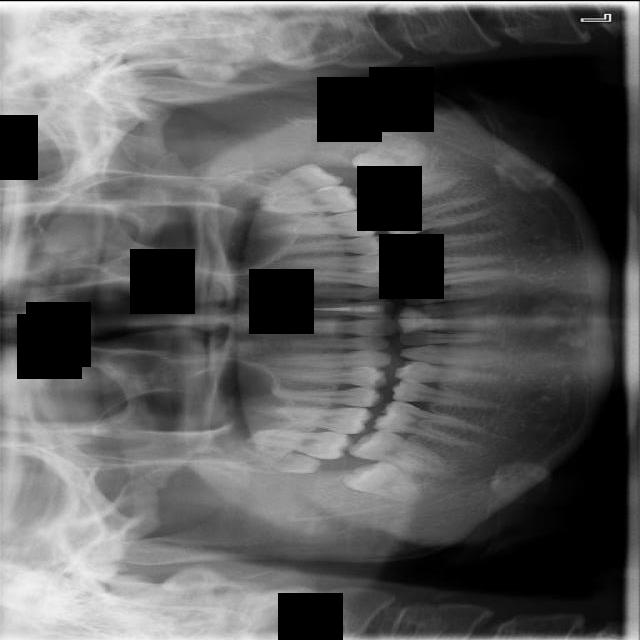3M ESPE Implant: (240, 445, 322, 475)
52: (353, 300, 399, 318)
73: (287, 301, 358, 317), (565, 52, 579, 58)
BioHorizons Implant: (262, 183, 364, 214)
BioLife Implant: (248, 153, 345, 208)
Biomet 3i Implant: (347, 120, 431, 188)
Blue Sky Bio Implant: (355, 168, 461, 215)
Caries: (246, 427, 353, 460)
Implant: (346, 420, 450, 480)
Keystone Dental Implant: (338, 449, 430, 509)
